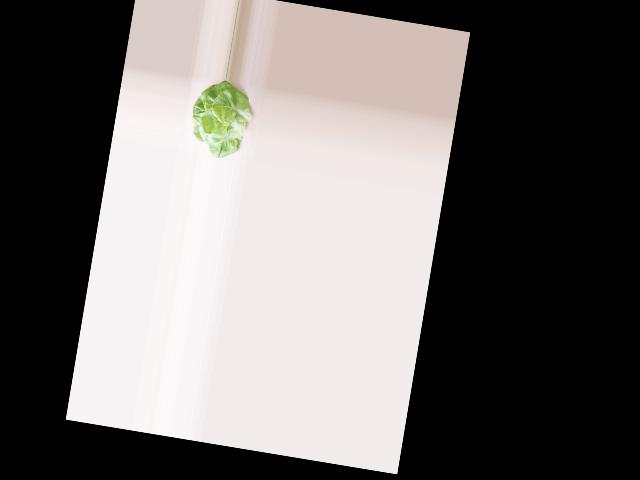lettuce: (186, 77, 254, 159)
